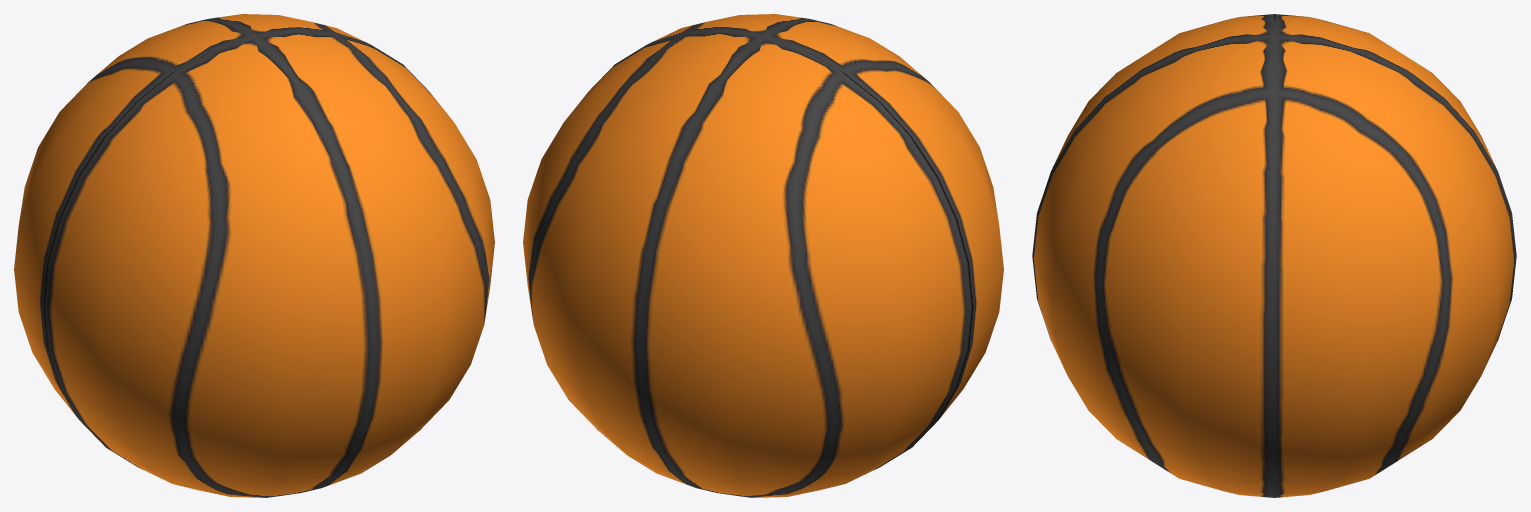
Rendered from basketball.glb.
3 renders of one model, left to right at view 1: azimuth 30°, elevation 25°; view 2: azimuth 150°, elevation 25°; view 3: azimuth 270°, elevation 25°, orthographic.
Parts seen in each view (by area): view 1: Sphere; view 2: Sphere; view 3: Sphere.
Boxes of the visible parts, x1=… form: Sphere: x1=14, y1=14, x2=494, y2=497; Sphere: x1=523, y1=14, x2=1003, y2=497; Sphere: x1=1032, y1=14, x2=1516, y2=497.
Size of the model in its own units: 1 by 1 by 1.
Materials: 1 (1 with a texture image).
